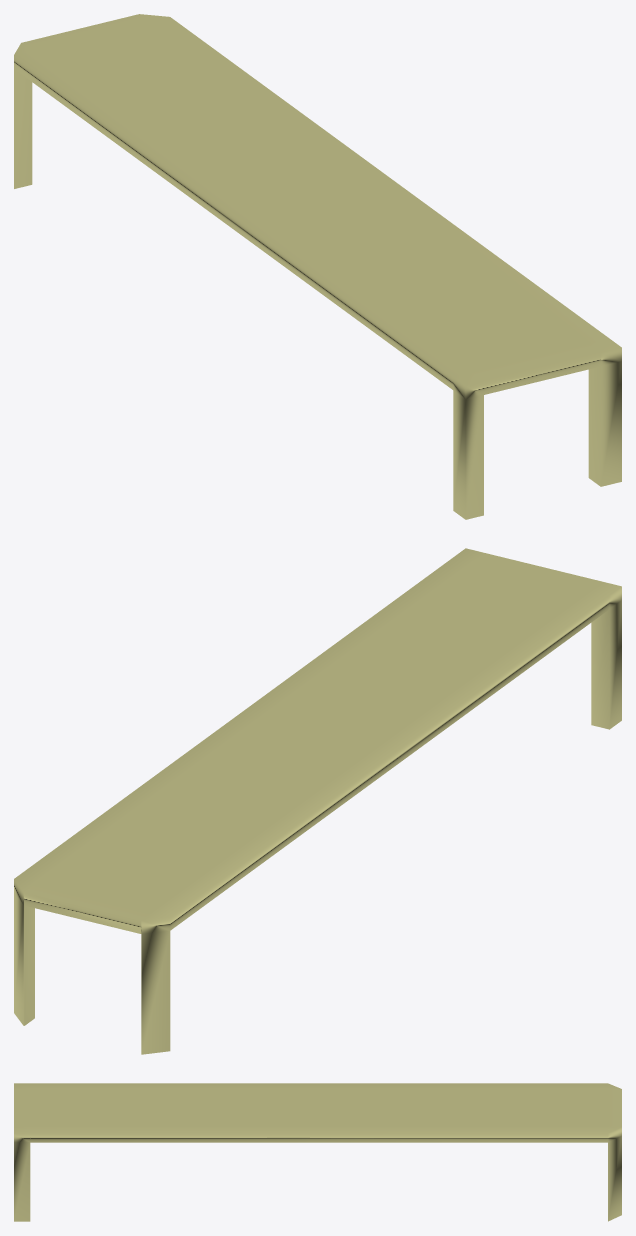
File: pîytÑ.fbx
The picture shows the model from 3 angles, top to bottom: view 1: azimuth 30°, elevation 25°; view 2: azimuth 150°, elevation 25°; view 3: azimuth 270°, elevation 25°; orthographic projection. The views are drawn at different scales.
Visible parts, largest first — view 1: Cube; view 2: Cube; view 3: Cube.
Boxes of the visible parts, left/top/right/bottom form: Cube: left=14, top=14, right=621, bottom=519; Cube: left=14, top=548, right=621, bottom=1054; Cube: left=14, top=1083, right=621, bottom=1221.
Size of the model in its own units: 2 by 1.64 by 10.25.
